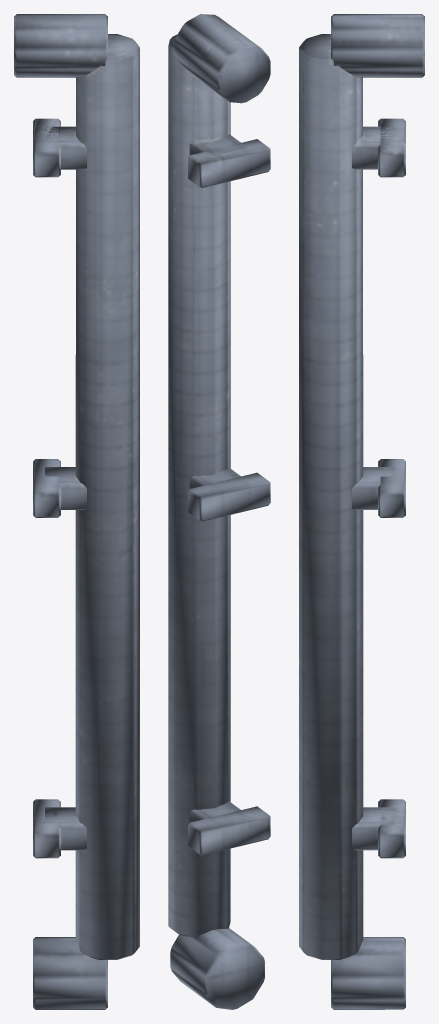
The model's file is Canio_Bajada.fbx.
3 views of the same model, side by side, from view 1: azimuth 90°, elevation 25°; view 2: azimuth 210°, elevation 25°; view 3: azimuth 270°, elevation 25° (orthographic). The views are drawn at different scales.
Parts seen in each view (by area): view 1: Canio_Bajada; view 2: Canio_Bajada; view 3: Canio_Bajada.
Boxes of the visible parts, <box> form: Canio_Bajada: <box>14,14,139,1009</box>; Canio_Bajada: <box>168,14,270,1009</box>; Canio_Bajada: <box>299,14,424,1009</box>.
Size of the model in its own units: 0.9 by 11.64 by 1.34.
